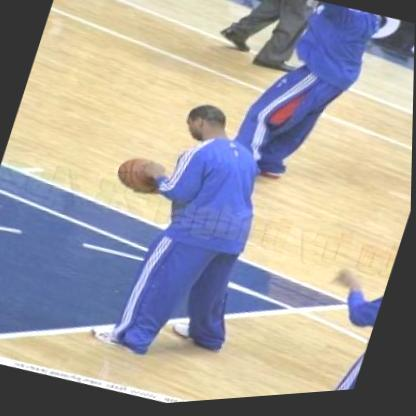basketball: (107, 147, 178, 209)
